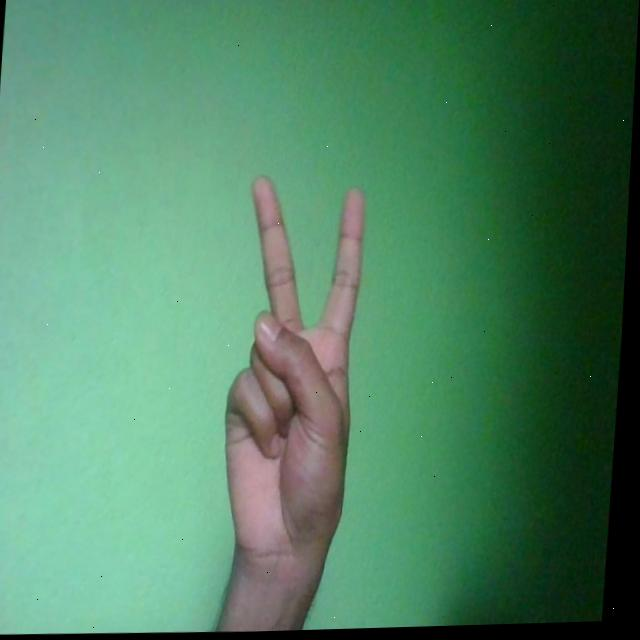Peace: (221, 176, 371, 569)
